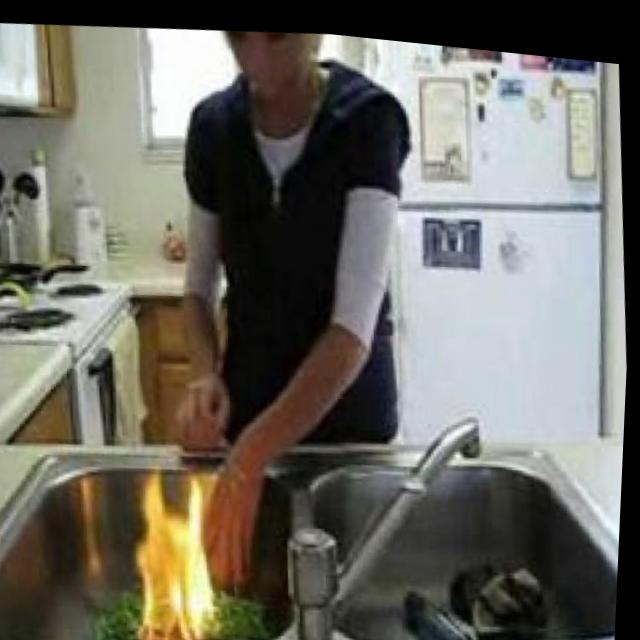Fire: (135, 471, 226, 639)
